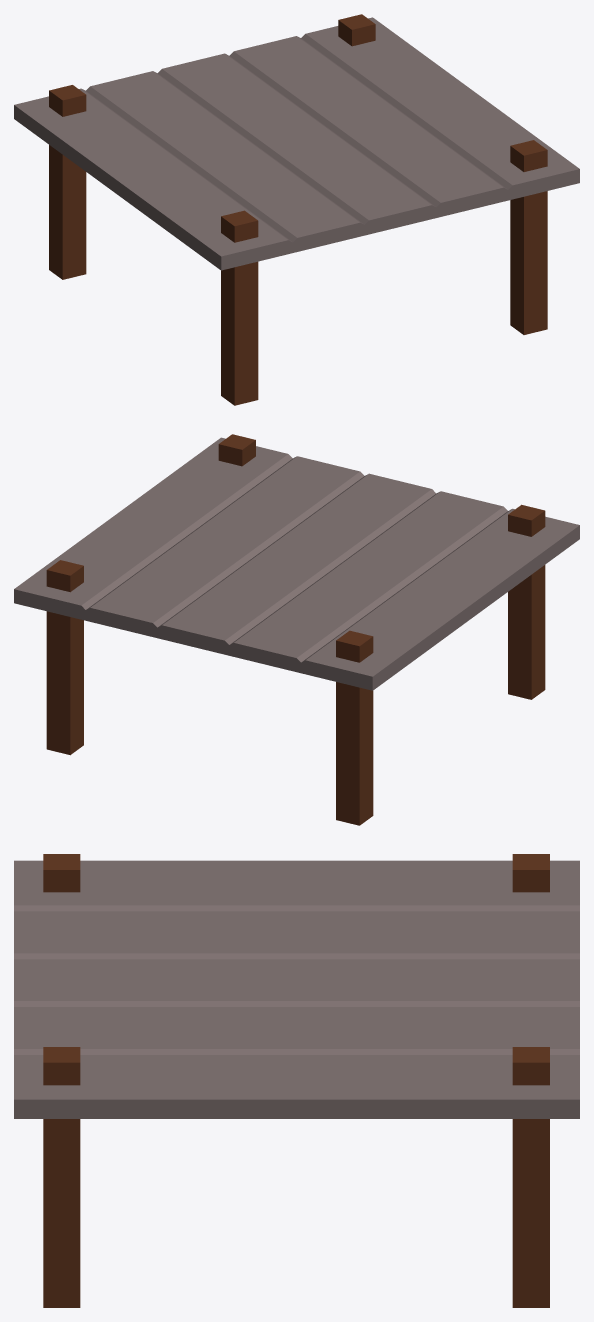
File: platforma ulepszenie.fbx
The picture shows the model from 3 angles, top to bottom: view 1: azimuth 30°, elevation 25°; view 2: azimuth 150°, elevation 25°; view 3: azimuth 270°, elevation 25°; orthographic projection. The views are drawn at different scales.
Visible parts, largest first — view 1: Cube.028; view 2: Cube.028; view 3: Cube.028.
Boxes of the visible parts, x1=… form: Cube.028: x1=14, y1=14, x2=579, y2=405; Cube.028: x1=14, y1=434, x2=579, y2=825; Cube.028: x1=14, y1=854, x2=579, y2=1307.
Size of the model in its own units: 159 by 76.21 by 159.
